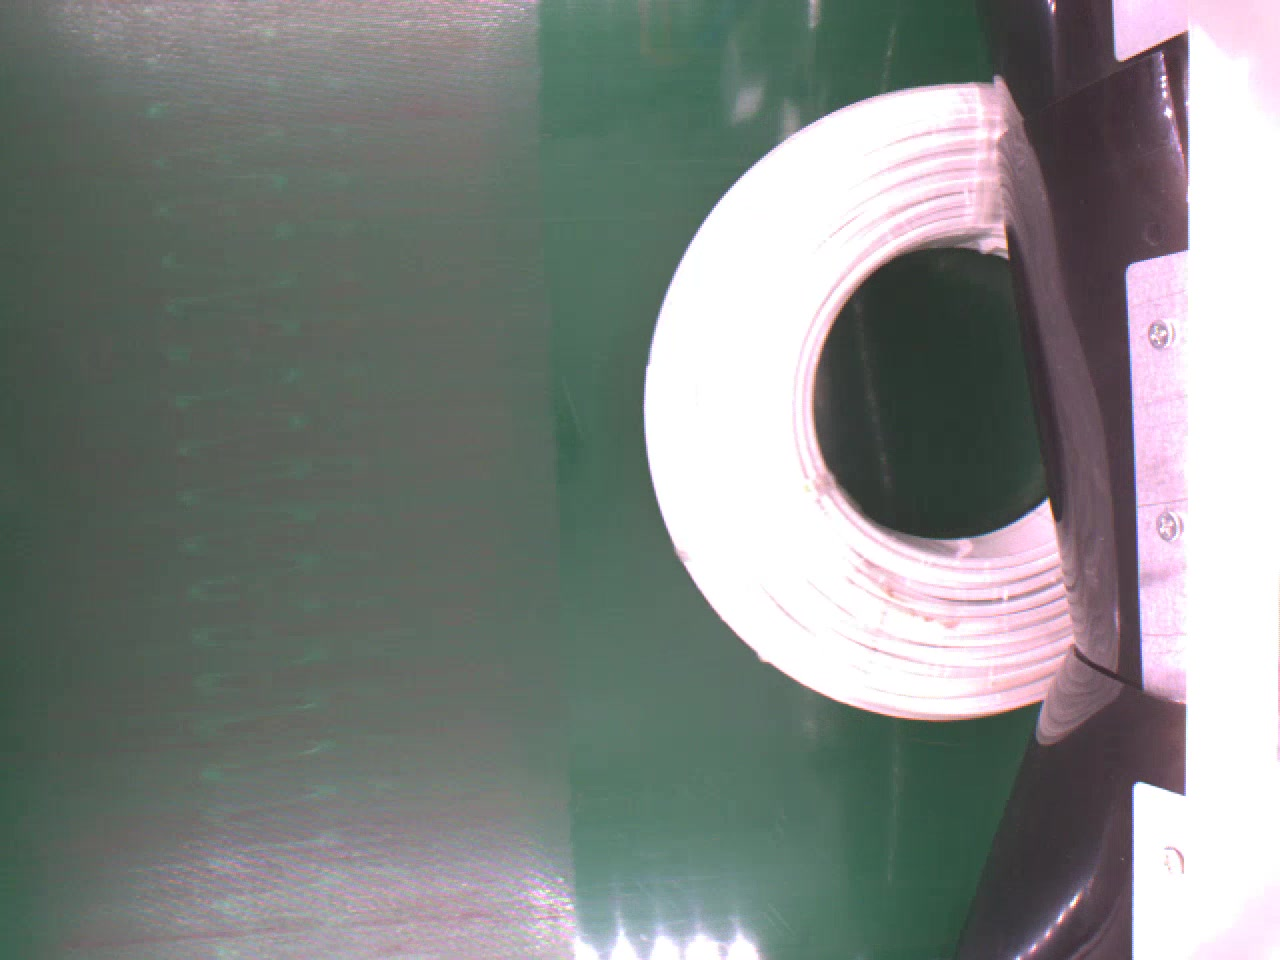white: (638, 82, 1067, 720)
